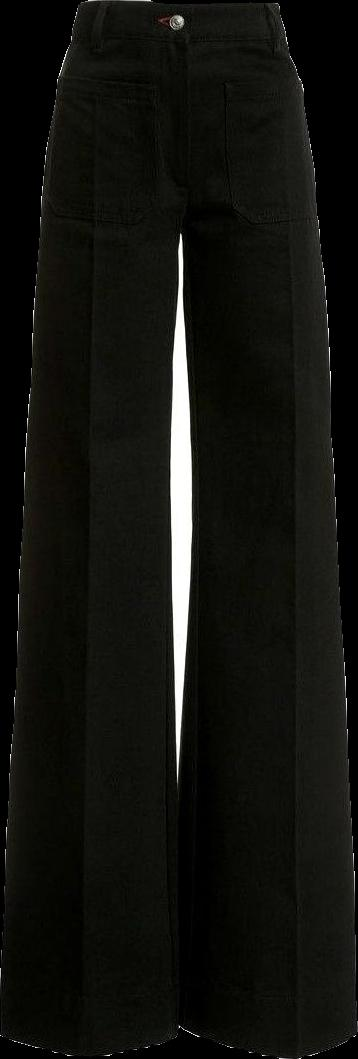Hemline: (174, 1014, 357, 1057), (0, 1018, 180, 1057)
Pantleg: (172, 1, 356, 1058), (1, 0, 183, 1055)
Waistline: (70, 30, 281, 49), (77, 0, 286, 12)
